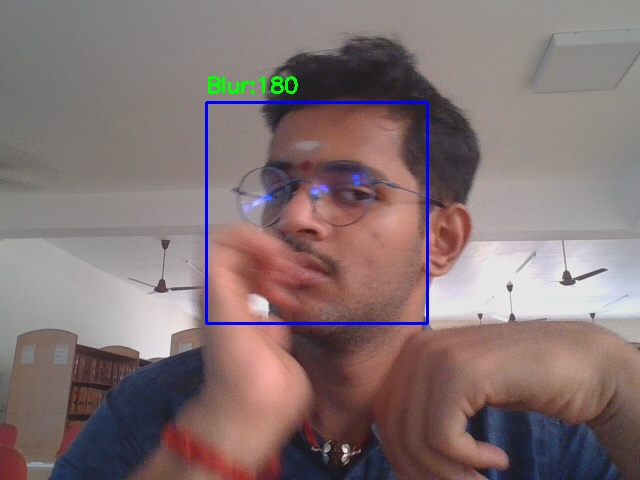real: (206, 102, 427, 323)
